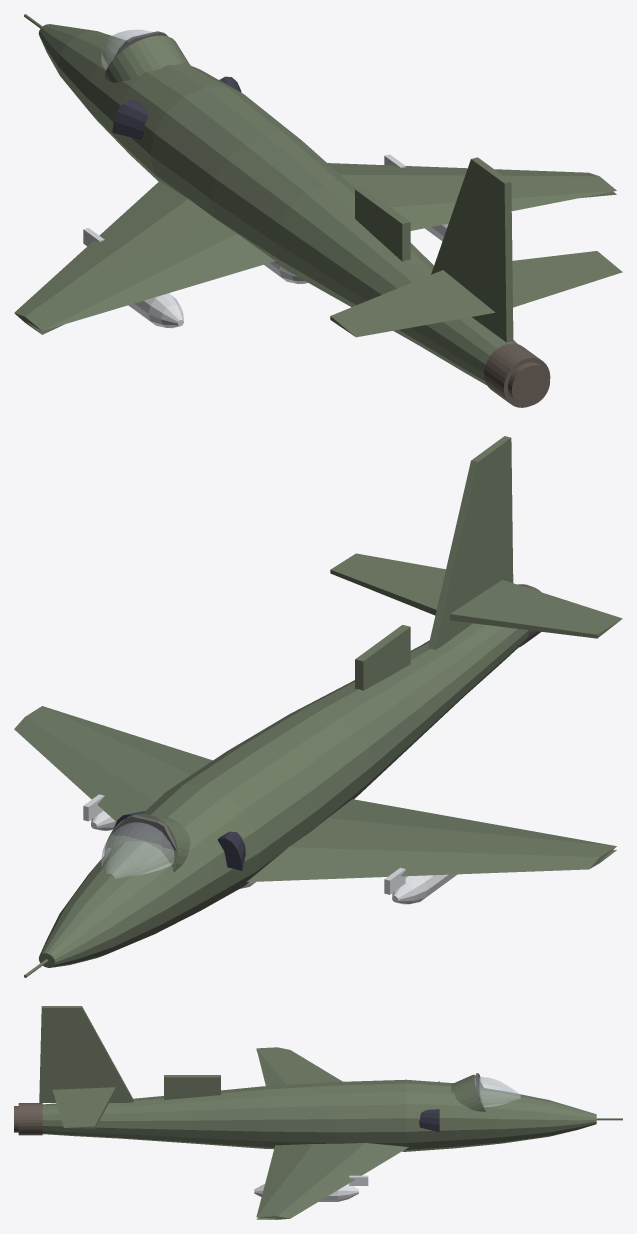
Rendered from a4_skyhawk.glb.
3 renders of one model, top to bottom at view 1: azimuth 30°, elevation 25°; view 2: azimuth 150°, elevation 25°; view 3: azimuth 270°, elevation 25°, orthographic. The views are drawn at different scales.
Visible parts, largest first — view 1: A4_Fuselage, A4_Wing_R, A4_VStab, A4_Wing_L, A4_HStab_R, A4_HStab_L, A4_CanopySill, A4_DorsalFin, A4_Exhaust, A4_ExhaustInner, A4_Tank_R, A4_Intake_R (+1 smaller); view 2: A4_Fuselage, A4_Wing_R, A4_Wing_L, A4_VStab, A4_HStab_R, A4_HStab_L, A4_Canopy, A4_DorsalFin, A4_CanopySill, A4_WindscreenFrame, A4_Tank_R, A4_Intake_R; view 3: A4_Fuselage, A4_Wing_L, A4_VStab, A4_Wing_R, A4_HStab_L, A4_DorsalFin, A4_Canopy, A4_Exhaust, A4_CanopySill, A4_Tank_L, A4_Intake_L.
Boxes of the visible parts, box(x1,y1,x2,y2) form: A4_Fuselage: box(38, 24, 518, 385); A4_Wing_R: box(14, 181, 275, 334); A4_VStab: box(431, 157, 513, 342); A4_Wing_L: box(327, 163, 616, 230); A4_HStab_R: box(330, 270, 494, 337); A4_HStab_L: box(512, 251, 622, 307); A4_CanopySill: box(104, 35, 189, 82); A4_DorsalFin: box(355, 187, 410, 261); A4_Exhaust: box(484, 343, 550, 407); A4_ExhaustInner: box(508, 362, 549, 406); A4_Tank_R: box(128, 293, 183, 328); A4_Intake_R: box(112, 100, 148, 139); A4_Fuselage: box(38, 623, 529, 967); A4_Wing_R: box(246, 799, 616, 881); A4_Wing_L: box(14, 706, 212, 821); A4_VStab: box(428, 436, 513, 649); A4_HStab_R: box(450, 580, 622, 638); A4_HStab_L: box(330, 553, 445, 615); A4_Canopy: box(101, 822, 174, 878); A4_DorsalFin: box(355, 625, 410, 690); A4_CanopySill: box(104, 814, 190, 871); A4_WindscreenFrame: box(112, 815, 179, 851); A4_Tank_R: box(392, 874, 457, 904); A4_Intake_R: box(217, 831, 245, 870); A4_Fuselage: box(42, 1079, 596, 1151); A4_Wing_L: box(256, 1143, 408, 1219); A4_VStab: box(39, 1006, 133, 1102); A4_Wing_R: box(256, 1047, 342, 1085); A4_HStab_L: box(52, 1087, 115, 1128); A4_DorsalFin: box(164, 1075, 220, 1099); A4_Canopy: box(475, 1077, 520, 1106); A4_Exhaust: box(18, 1103, 42, 1135); A4_CanopySill: box(451, 1074, 485, 1111); A4_Tank_L: box(254, 1184, 358, 1201); A4_Intake_L: box(419, 1109, 439, 1132).
Bounding box in the file's own units: 8.4 × 3.57 × 12.8.
